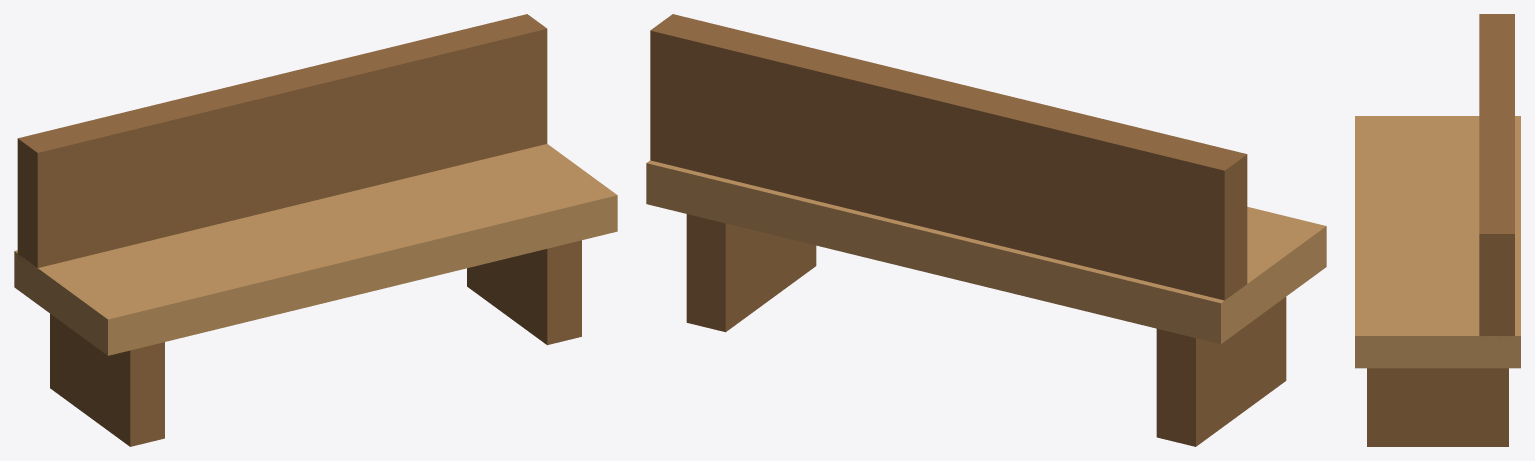
Rendered from park_bench.glb.
3 views of the same model, side by side, from view 1: azimuth 30°, elevation 25°; view 2: azimuth 150°, elevation 25°; view 3: azimuth 270°, elevation 25° (orthographic). The views are drawn at different scales.
Parts seen in each view (by area): view 1: park_bench; view 2: park_bench; view 3: park_bench.
Part boxes in pixels (x1,y1,x2,y2): park_bench: (14,14,617,446); park_bench: (646,14,1326,446); park_bench: (1355,14,1520,446).
Bounding box in the file's own units: 44 × 21 × 14.
